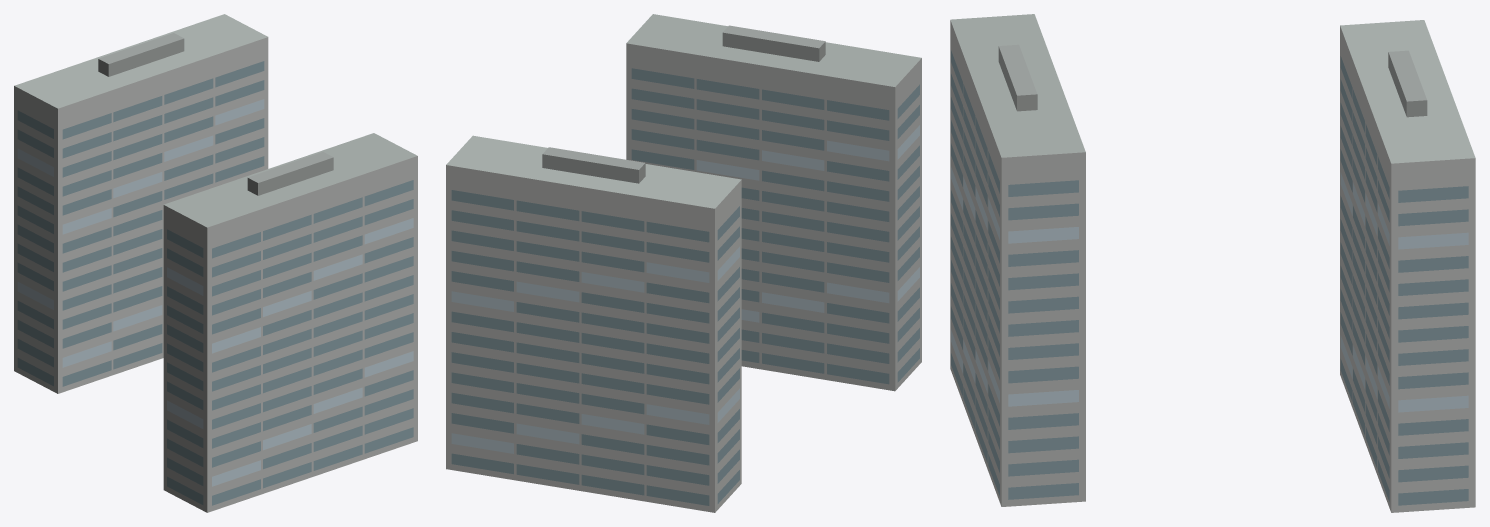
File: apt-a13385802.glb
3 renders of one model, left to right at view 1: azimuth 30°, elevation 25°; view 2: azimuth 150°, elevation 25°; view 3: azimuth 270°, elevation 25°, orthographic. The views are drawn at different scales.
Visible parts, largest first — view 1: apt-a13385802; view 2: apt-a13385802; view 3: apt-a13385802.
Part boxes in pixels (box(x1,y1,x2,y2)): apt-a13385802: box(14, 14, 417, 512); apt-a13385802: box(446, 14, 921, 512); apt-a13385802: box(950, 14, 1475, 512).
Bounding box in the file's own units: 42.05 × 47.81 × 62.36.
